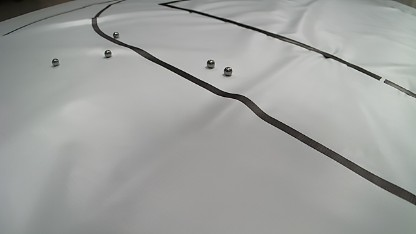ironball: (223, 66, 232, 76), (206, 59, 214, 68), (104, 49, 112, 58), (52, 58, 59, 66), (113, 31, 119, 38)
